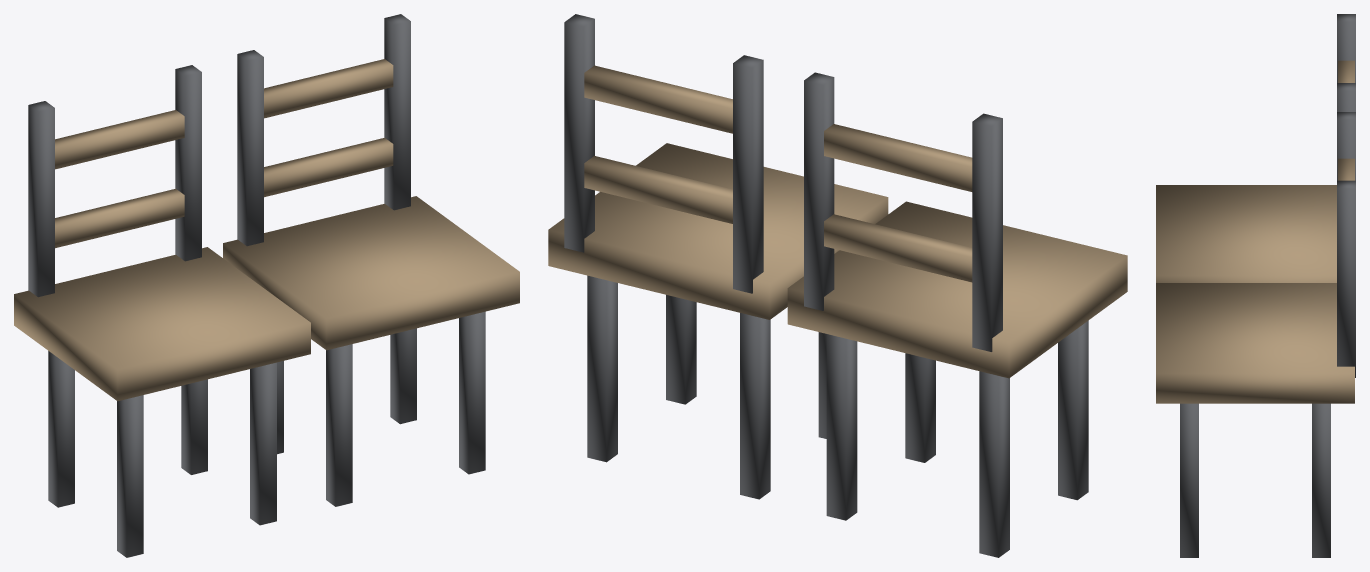
File: dining_chair__cluster.glb
3 views of the same model, side by side, from view 1: azimuth 30°, elevation 25°; view 2: azimuth 150°, elevation 25°; view 3: azimuth 270°, elevation 25° (orthographic). The views are drawn at different scales.
Visible parts, largest first — view 1: world; view 2: world; view 3: world.
Part boxes in pixels (x1=…): world: x1=14, y1=14, x2=519, y2=557; world: x1=548, y1=14, x2=1127, y2=557; world: x1=1156, y1=14, x2=1355, y2=557.
Size of the model in its own units: 1.07 by 0.9841 by 0.4785.
